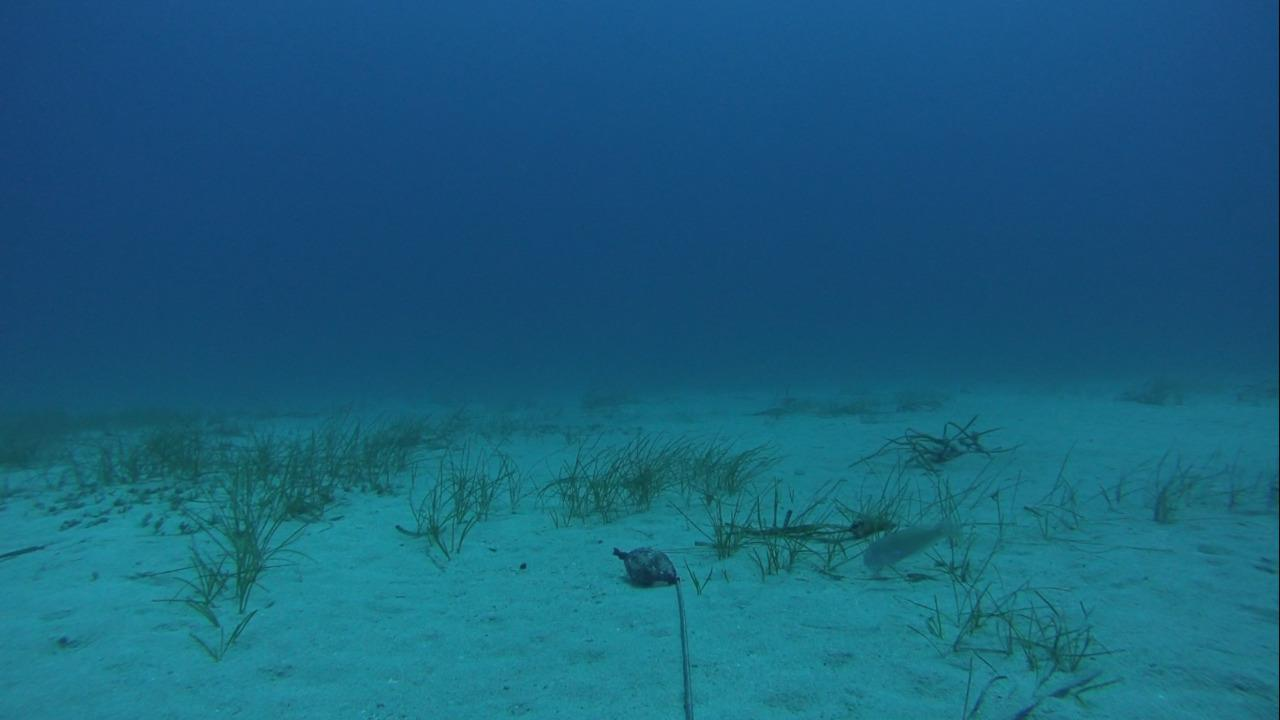raor: (862, 516, 949, 569)
